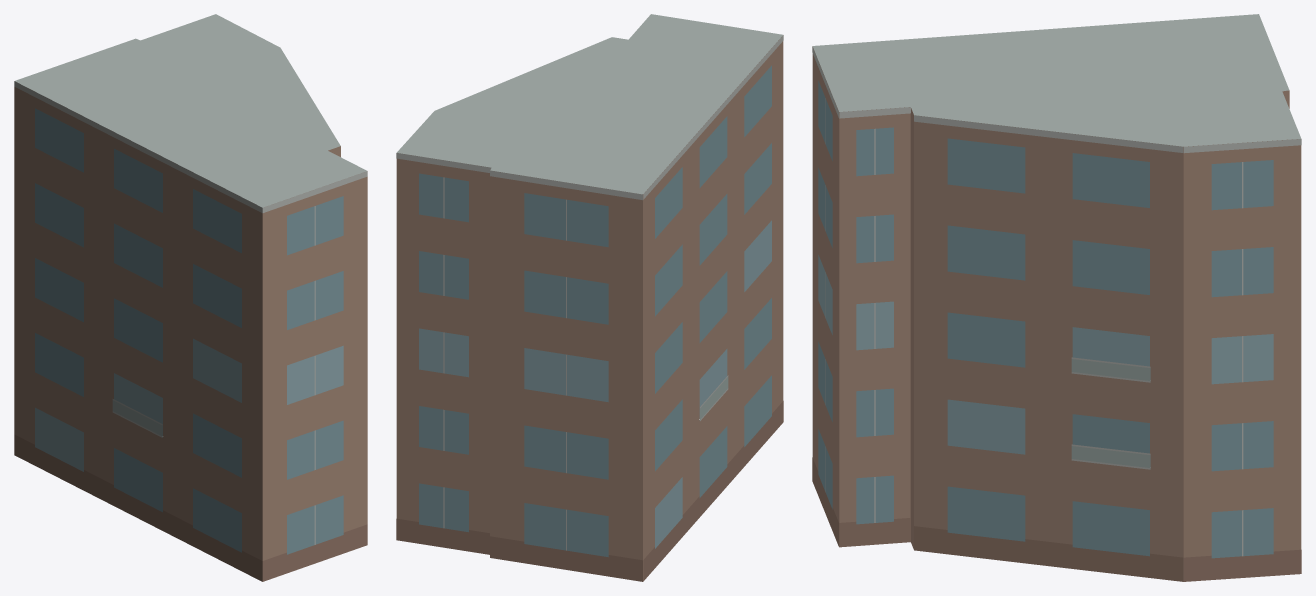
The model's file is survey-upis-32981950.glb.
The picture shows the model from 3 angles, left to right: view 1: azimuth 30°, elevation 25°; view 2: azimuth 150°, elevation 25°; view 3: azimuth 270°, elevation 25°; orthographic projection. The views are drawn at different scales.
Visible parts, largest first — view 1: survey-upis-32981950.tmp; view 2: survey-upis-32981950.tmp; view 3: survey-upis-32981950.tmp.
Boxes of the visible parts, x1,y1,x2,y2 form: survey-upis-32981950.tmp: (14, 14, 367, 581); survey-upis-32981950.tmp: (396, 14, 783, 581); survey-upis-32981950.tmp: (812, 14, 1301, 581).
Size of the model in its own units: 10.74 by 16.4 by 16.71.
